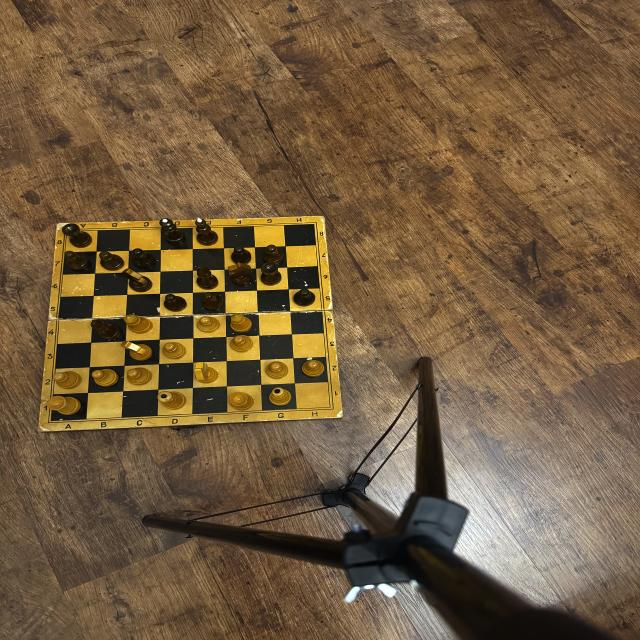black-bishop: (90, 320, 122, 340), (196, 266, 219, 290)
black-king: (194, 217, 218, 246)
black-knight: (121, 268, 152, 292), (228, 262, 253, 286)
black-pawn: (132, 248, 156, 270), (64, 251, 90, 271), (99, 251, 124, 271), (262, 245, 285, 265), (201, 292, 224, 312), (292, 288, 316, 306), (163, 294, 187, 312), (230, 246, 252, 264)
black-queen: (159, 218, 187, 245)
black-rook: (62, 223, 92, 248), (261, 263, 282, 286)
white-bishop: (124, 314, 153, 334), (230, 313, 253, 333)
white-king: (268, 387, 292, 406)
white-knight: (120, 341, 154, 362), (194, 362, 218, 384)
white-pawn: (91, 368, 119, 388), (52, 371, 82, 389), (126, 367, 152, 386), (266, 360, 288, 380), (230, 334, 253, 352), (301, 360, 325, 377), (162, 342, 186, 359), (197, 316, 220, 333)
white-queen: (156, 391, 187, 410)
white-rook: (48, 396, 82, 416), (229, 392, 254, 410)
